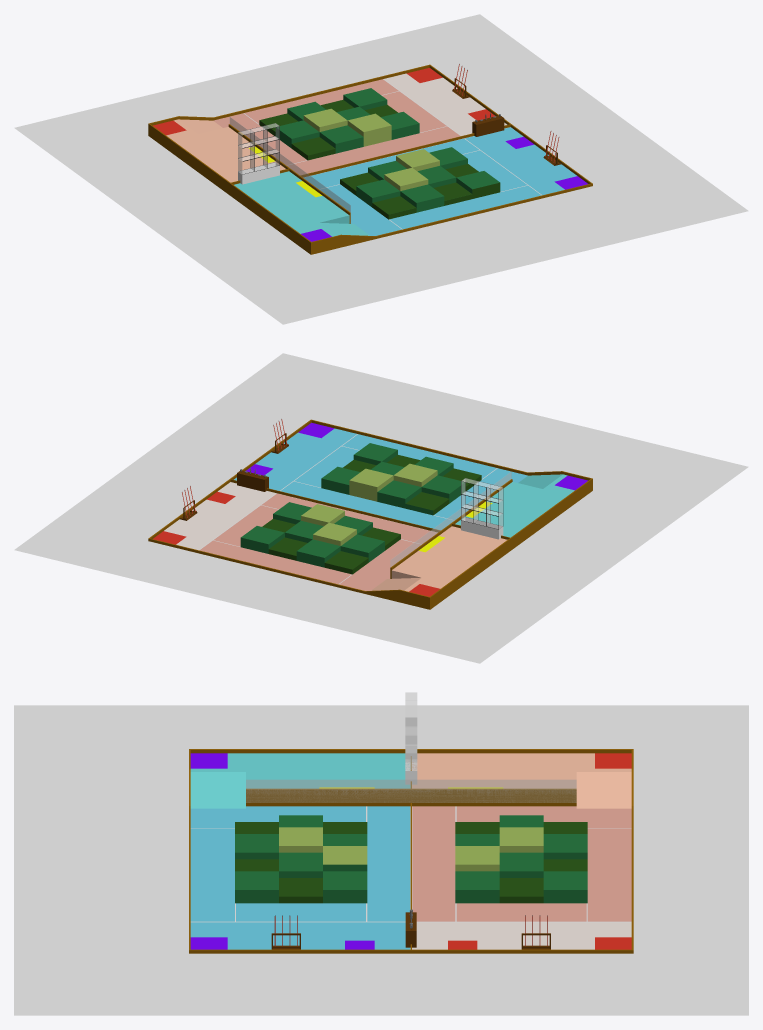
Rendered from robocon2026.dae.
3 views of the same model, one above another, from view 1: azimuth 30°, elevation 25°; view 2: azimuth 150°, elevation 25°; view 3: azimuth 270°, elevation 25° (orthographic). The views are drawn at different scales.
Parts seen in each view (by area): view 1: 平面.005, 主地图, 平面.006, 区域三放置架, 主地图.002, 2-3区围栏; view 2: 平面.005, 主地图, 平面.006, 区域三放置架, 主地图.002, 2-3区围栏; view 3: 平面.005, 主地图, 主地图.002, 2-3区围栏, 平面.006, 区域三放置架.
Boxes of the visible parts, box(x1,y1,x2,y2) form: 平面.005: box(14, 14, 748, 324); 主地图: box(153, 68, 587, 241); 平面.006: box(148, 64, 592, 254); 区域三放置架: box(238, 123, 279, 184); 主地图.002: box(229, 117, 350, 221); 2-3区围栏: box(228, 124, 350, 223); 平面.005: box(14, 353, 748, 663); 主地图: box(153, 422, 587, 596); 平面.006: box(148, 419, 592, 609); 区域三放置架: box(461, 478, 503, 539); 主地图.002: box(390, 472, 511, 567); 2-3区围栏: box(390, 479, 512, 578); 平面.005: box(14, 705, 748, 1015); 主地图: box(190, 753, 631, 949); 主地图.002: box(246, 779, 576, 802); 2-3区围栏: box(246, 756, 576, 806); 平面.006: box(189, 749, 633, 953); 区域三放置架: box(405, 692, 417, 784).
Bounding box in the file's own units: 20 × 20 × 2.45.
